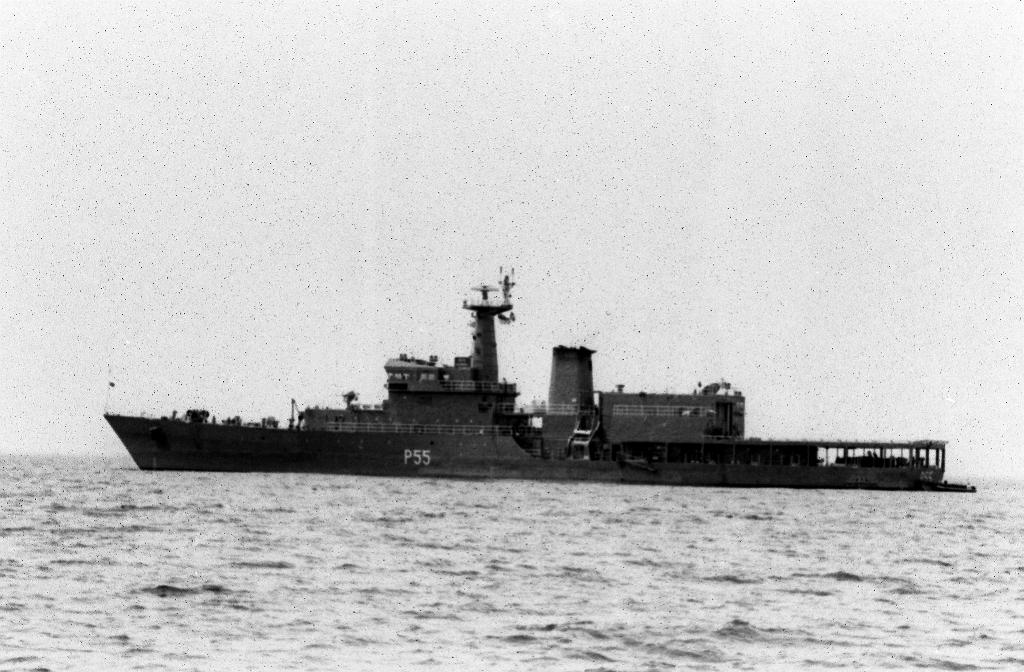Warship: (96, 272, 980, 496)
